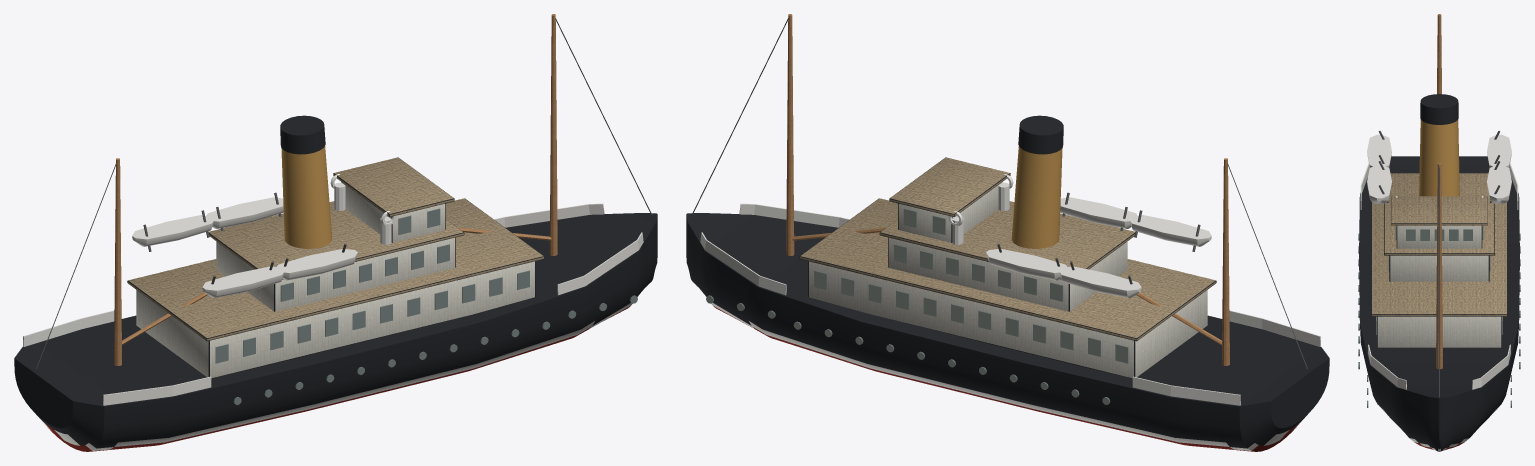
The model's file is harbor_steamer.glb.
3 renders of one model, left to right at view 1: azimuth 30°, elevation 25°; view 2: azimuth 150°, elevation 25°; view 3: azimuth 270°, elevation 25°, orthographic. The views are drawn at different scales.
Visible parts, largest first — view 1: steamer; view 2: steamer; view 3: steamer.
Part boxes in pixels (<box>): steamer: <box>14,14,657,451</box>; steamer: <box>686,14,1329,451</box>; steamer: <box>1358,14,1520,451</box>.
Size of the model in its own units: 34.22 by 16.71 by 9.06.
Materials: 9 (3 with a texture image).
